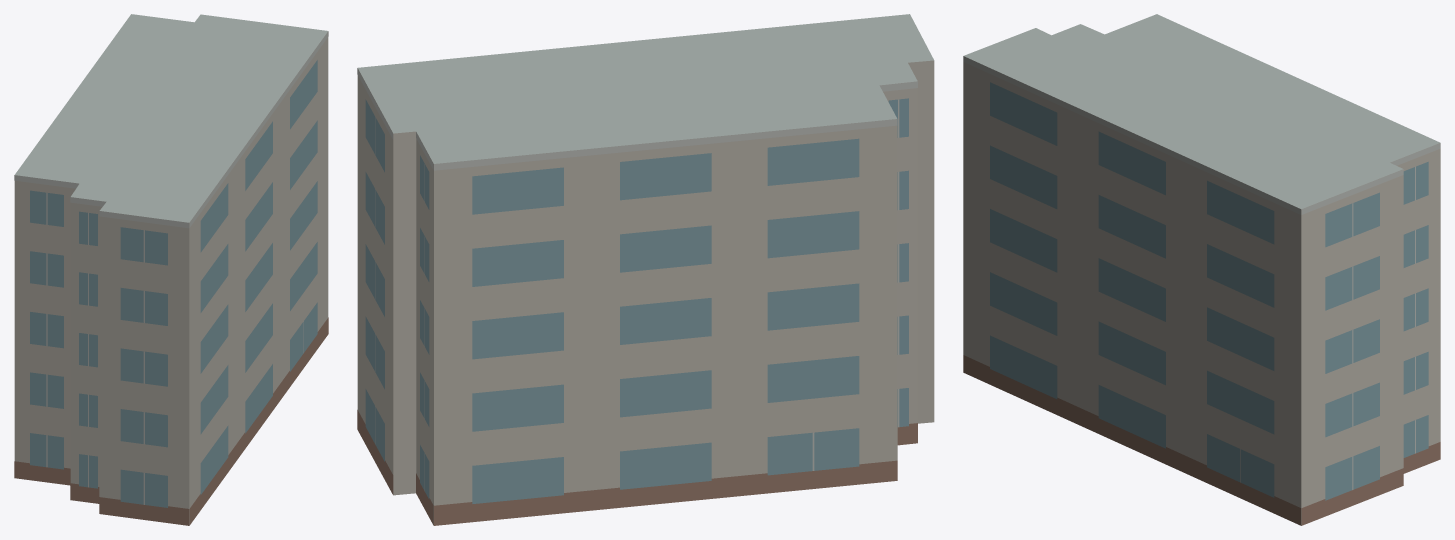
File: survey-upis-32936845.glb
3 views of the same model, side by side, from view 1: azimuth 30°, elevation 25°; view 2: azimuth 150°, elevation 25°; view 3: azimuth 270°, elevation 25° (orthographic). The views are drawn at different scales.
Visible parts, largest first — view 1: survey-upis-32936845.tmp; view 2: survey-upis-32936845.tmp; view 3: survey-upis-32936845.tmp.
Boxes of the visible parts, bbox=[...] form: survey-upis-32936845.tmp: bbox=[14, 14, 328, 525]; survey-upis-32936845.tmp: bbox=[357, 14, 934, 525]; survey-upis-32936845.tmp: bbox=[963, 14, 1440, 525].
Bounding box in the file's own units: 17.47 × 13.2 × 18.04.
